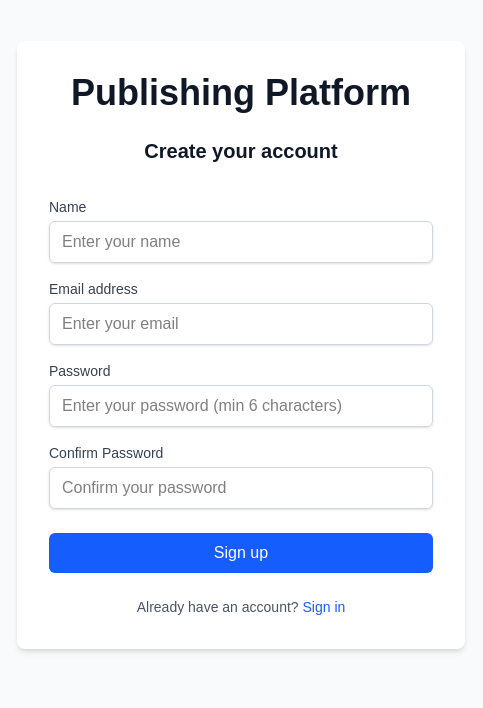
Test: RegisterPage › should show error if password is too short
Type "Test User" into the field labelled "Name" at (241,242), box [49, 221, 433, 263]
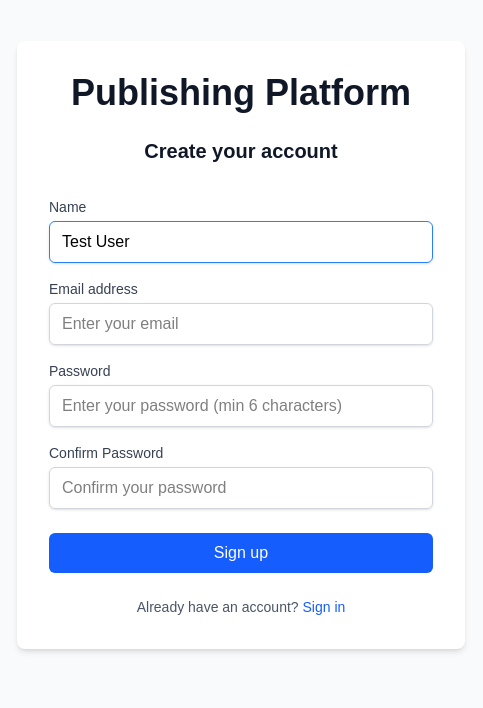
Type "test@example.com" into the field labelled "Email address" at (241,324), box [49, 303, 433, 345]
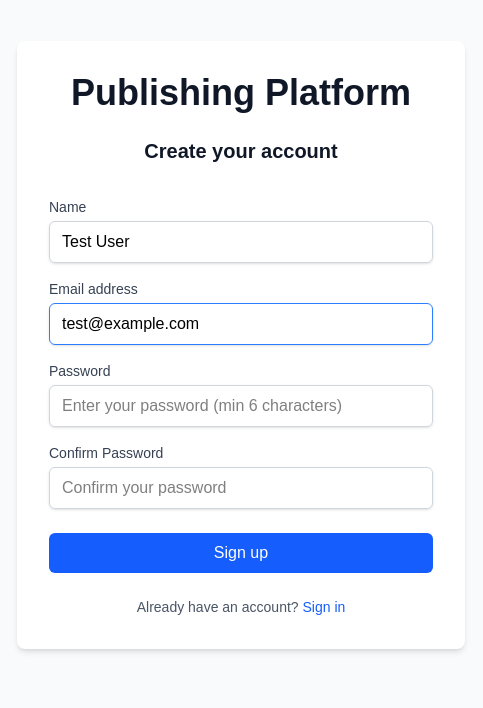
Type "123" into the password field labelled "Password" at (241,406), box [49, 385, 433, 427]
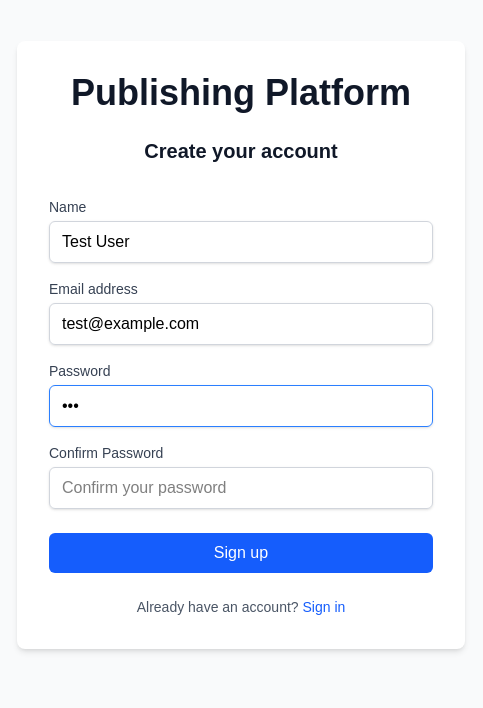
Type "123" into the password field labelled "Confirm Password" at (241,488), box [49, 467, 433, 509]
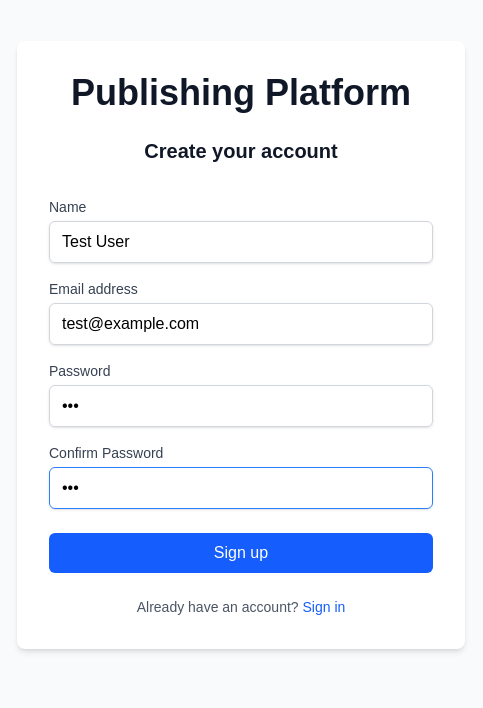
Click the button "Sign up" at (241,553), box [49, 533, 433, 573]
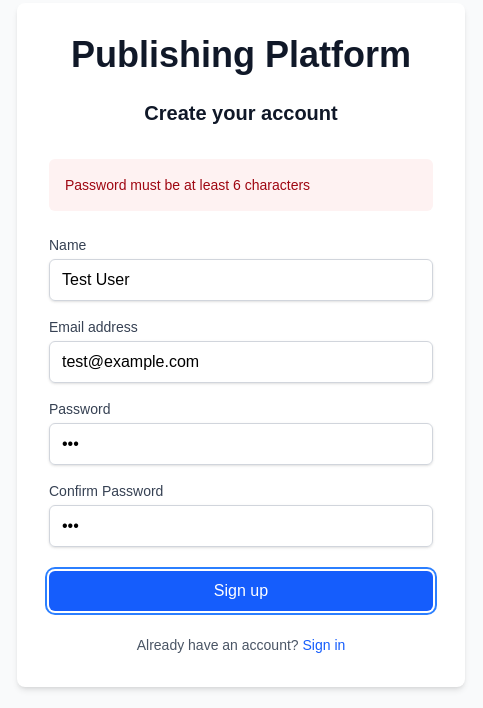
Check: the text "Password must be at least 6 characters" is shown, box [65, 177, 310, 193]
